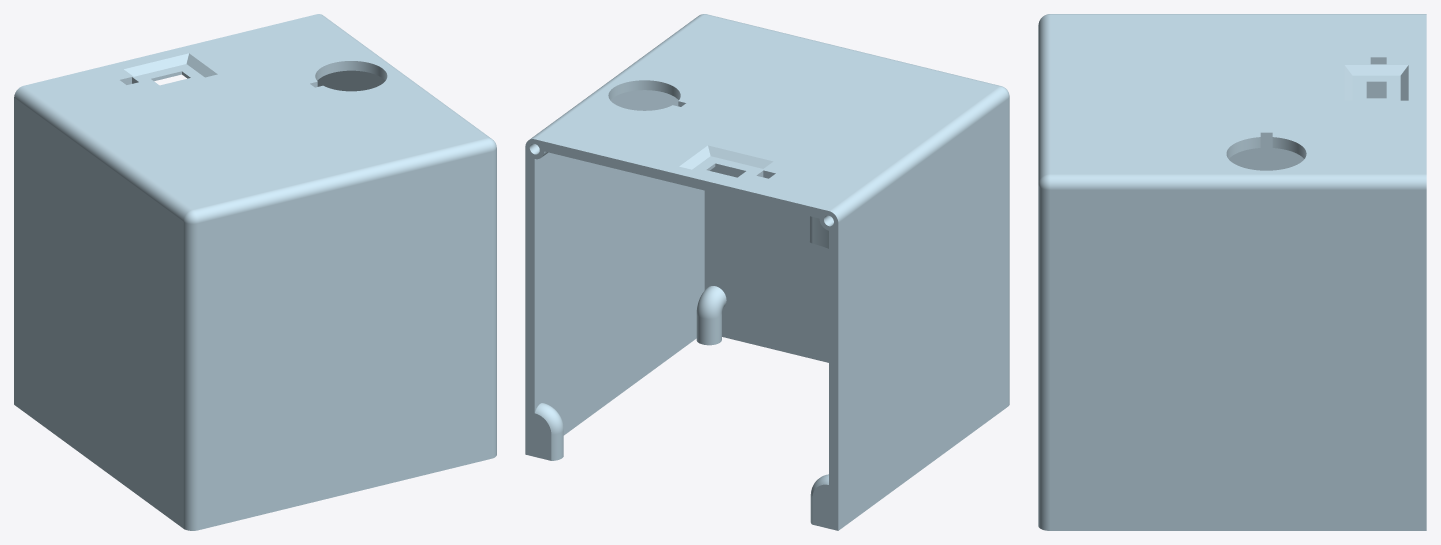
The model's file is basic lid.glb.
The picture shows the model from 3 angles, left to right: view 1: azimuth 30°, elevation 25°; view 2: azimuth 150°, elevation 25°; view 3: azimuth 270°, elevation 25°; orthographic projection. The views are drawn at different scales.
Visible parts, largest first — view 1: Part 1; view 2: Part 1; view 3: Part 1.
Part boxes in pixels (box(x1,y1,x2,y2)): Part 1: box(14, 14, 496, 530); Part 1: box(525, 14, 1009, 530); Part 1: box(1038, 14, 1426, 530).
Size of the model in its own units: 0.1 by 0.097 by 0.097.
